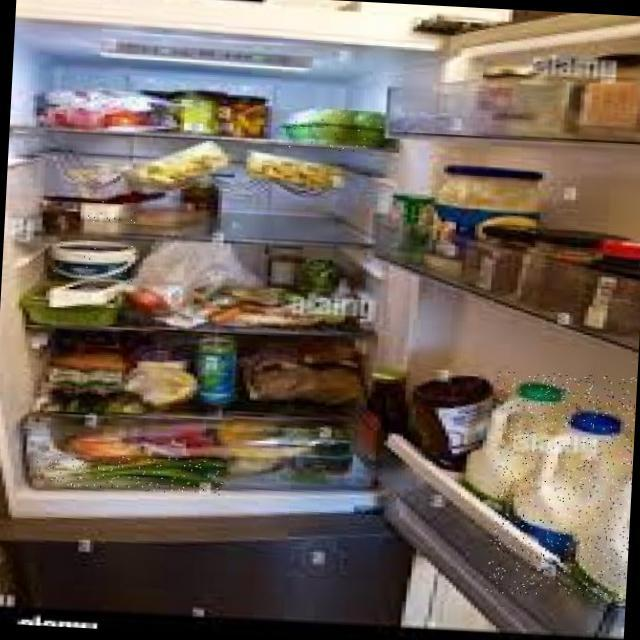Huevos: (286, 107, 386, 154)
Mantequilla: (81, 201, 143, 225)
Yogur: (51, 241, 136, 285)
milk: (486, 371, 637, 600)
spring onion: (35, 450, 226, 496)
